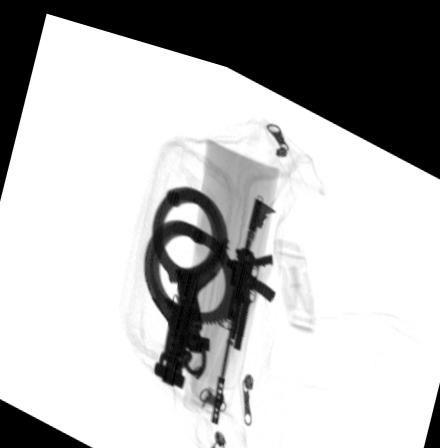Gun: (207, 178, 276, 412)
HandCuffs: (140, 174, 238, 380)
